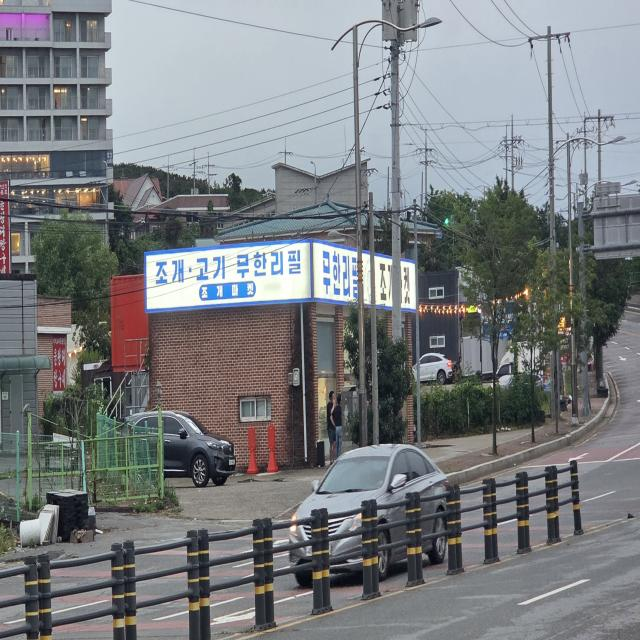car: (278, 428, 465, 592), (120, 400, 245, 498)
